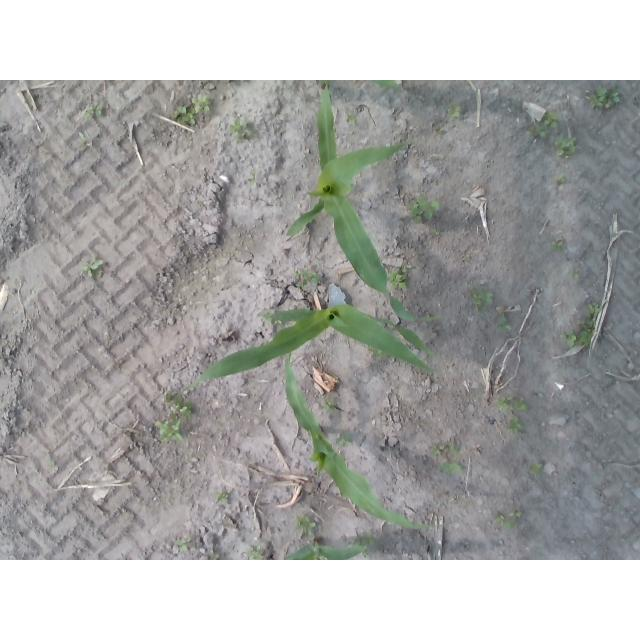Maize: (287, 88, 441, 321), (286, 354, 439, 531), (173, 304, 436, 395), (283, 538, 367, 560)
Weeds: (409, 195, 437, 221), (589, 87, 621, 109), (167, 397, 194, 416), (157, 420, 181, 441), (555, 136, 578, 156), (473, 289, 495, 308), (81, 259, 104, 277), (298, 268, 323, 284), (390, 269, 410, 287), (192, 94, 209, 113), (297, 514, 316, 531), (232, 120, 247, 139), (561, 332, 577, 349), (497, 314, 511, 333), (582, 327, 595, 347), (439, 463, 461, 474), (507, 418, 523, 433), (336, 432, 353, 446), (177, 113, 195, 126), (545, 113, 560, 128), (248, 545, 264, 559), (174, 538, 191, 551), (322, 398, 335, 411), (215, 490, 229, 502), (88, 105, 102, 115), (531, 126, 545, 136), (449, 105, 461, 116), (174, 107, 186, 117), (529, 463, 541, 473), (590, 305, 601, 315), (449, 444, 459, 455), (432, 446, 445, 454), (516, 401, 527, 410), (498, 399, 507, 410), (509, 511, 523, 518), (251, 170, 257, 186), (506, 519, 515, 529), (347, 114, 357, 123), (78, 132, 86, 142), (497, 515, 505, 525), (553, 240, 563, 248), (432, 228, 440, 236), (573, 270, 580, 278), (558, 176, 566, 183)
